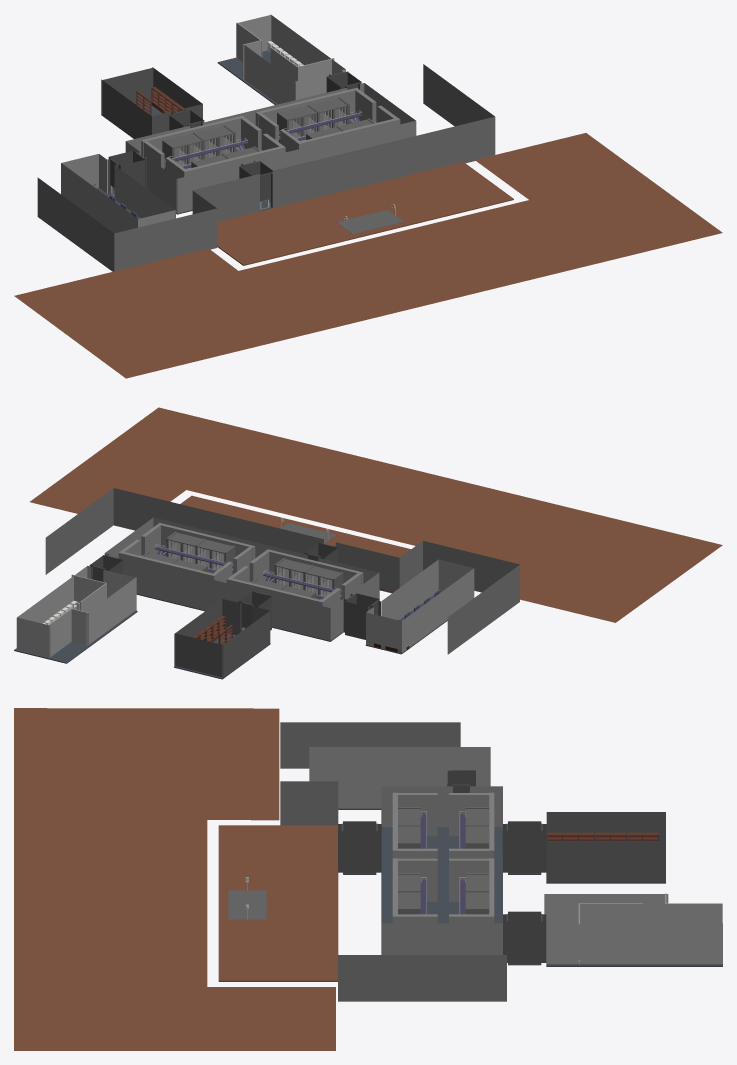
The model's file is Whiteblock Prison GM.fbx.
3 views of the same model, one above another, from view 1: azimuth 30°, elevation 25°; view 2: azimuth 150°, elevation 25°; view 3: azimuth 270°, elevation 25° (orthographic). The views are drawn at different scales.
Parts seen in each view (by area): view 1: Plane.004, Plane, Cube.020, Cube.023, Cube.031, Plane.001, Cube.008, Plane.003, Plane.002, Cube.025, Cube.001, Cube.011 (+1 smaller); view 2: Plane.004, Plane, Cube.023, Cube.031, Plane.001, Plane.003, Cube.008, Plane.002, Cube.020, Cube.025, Cube.010, Cube.009 (+1 smaller); view 3: Plane.004, Cube.020, Plane, Cube.023, Cube.031, Plane.003, Plane.001, Plane.002, Cube.008, Cube.022, Cube.001, Cube.011 (+1 smaller).
Part boxes in pixels (x1=…): Plane.004: x1=14, y1=133, x2=722, y2=378; Plane: x1=37, y1=64, x2=495, y2=271; Cube.020: x1=217, y1=162, x2=513, y2=265; Cube.023: x1=125, y1=83, x2=416, y2=213; Cube.031: x1=236, y1=14, x2=345, y2=104; Plane.001: x1=61, y1=154, x2=175, y2=233; Cube.008: x1=162, y1=97, x2=375, y2=169; Plane.003: x1=101, y1=67, x2=202, y2=138; Plane.002: x1=107, y1=71, x2=361, y2=207; Cube.025: x1=164, y1=106, x2=376, y2=169; Cube.001: x1=336, y1=210, x2=403, y2=234; Cube.011: x1=136, y1=87, x2=184, y2=115; Plane.004: x1=30, y1=407, x2=722, y2=622; Plane: x1=45, y1=488, x2=519, y2=654; Cube.023: x1=104, y1=517, x2=379, y2=640; Cube.031: x1=16, y1=566, x2=136, y2=658; Plane.001: x1=366, y1=559, x2=474, y2=652; Plane.003: x1=174, y1=599, x2=270, y2=678; Cube.008: x1=142, y1=531, x2=343, y2=600; Plane.002: x1=89, y1=543, x2=380, y2=638; Cube.020: x1=180, y1=495, x2=410, y2=592; Cube.025: x1=141, y1=540, x2=341, y2=599; Cube.010: x1=14, y1=610, x2=137, y2=663; Cube.009: x1=154, y1=546, x2=341, y2=599; Plane.004: x1=14, y1=708, x2=335, y2=1050; Cube.020: x1=218, y1=825, x2=338, y2=981; Plane: x1=280, y1=722, x2=506, y2=1001; Cube.023: x1=381, y1=786, x2=502, y2=954; Cube.031: x1=544, y1=893, x2=722, y2=964; Plane.003: x1=546, y1=812, x2=665, y2=882; Plane.001: x1=309, y1=747, x2=490, y2=808; Plane.002: x1=338, y1=770, x2=546, y2=964; Cube.008: x1=398, y1=807, x2=488, y2=914; Cube.022: x1=381, y1=827, x2=502, y2=923; Cube.001: x1=228, y1=890, x2=266, y2=919; Cube.011: x1=547, y1=832, x2=658, y2=841.
Size of the model in its own units: 30822 by 1954 by 26943.
